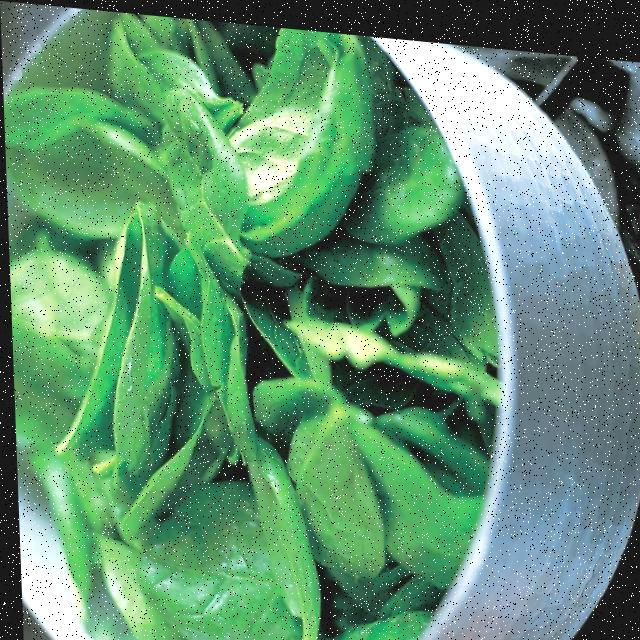Spinach: (0, 0, 525, 640)
